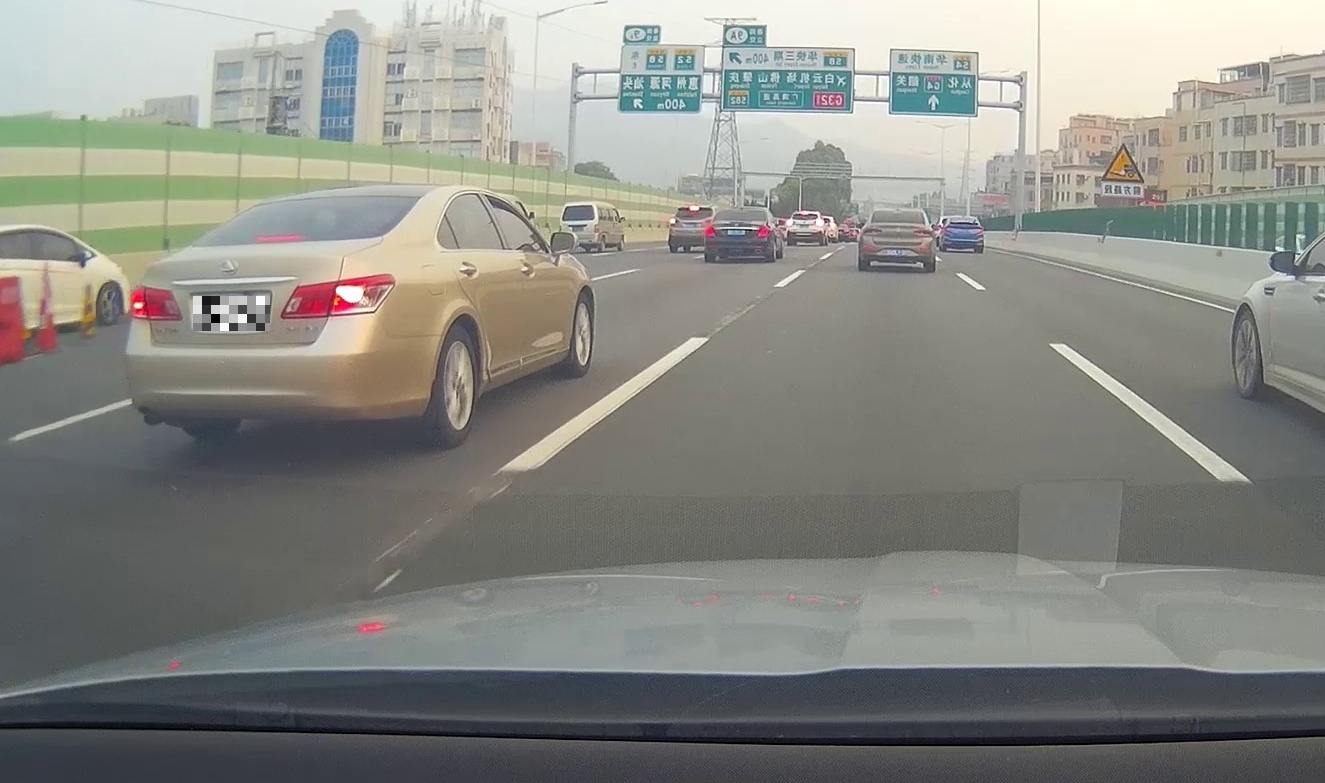L_light: (129, 284, 183, 321), (705, 225, 717, 238), (862, 227, 883, 234), (786, 220, 794, 226)
R_light: (280, 273, 396, 319), (913, 228, 932, 237), (756, 226, 770, 238), (816, 219, 824, 227)
T_light: (255, 234, 305, 243), (733, 210, 746, 212), (892, 211, 903, 213), (802, 214, 808, 215)
day-brake: (786, 211, 825, 246)
day-no: (859, 208, 935, 272), (704, 206, 773, 263)
day-right: (125, 184, 436, 450)
plate_1: (193, 296, 270, 331)
